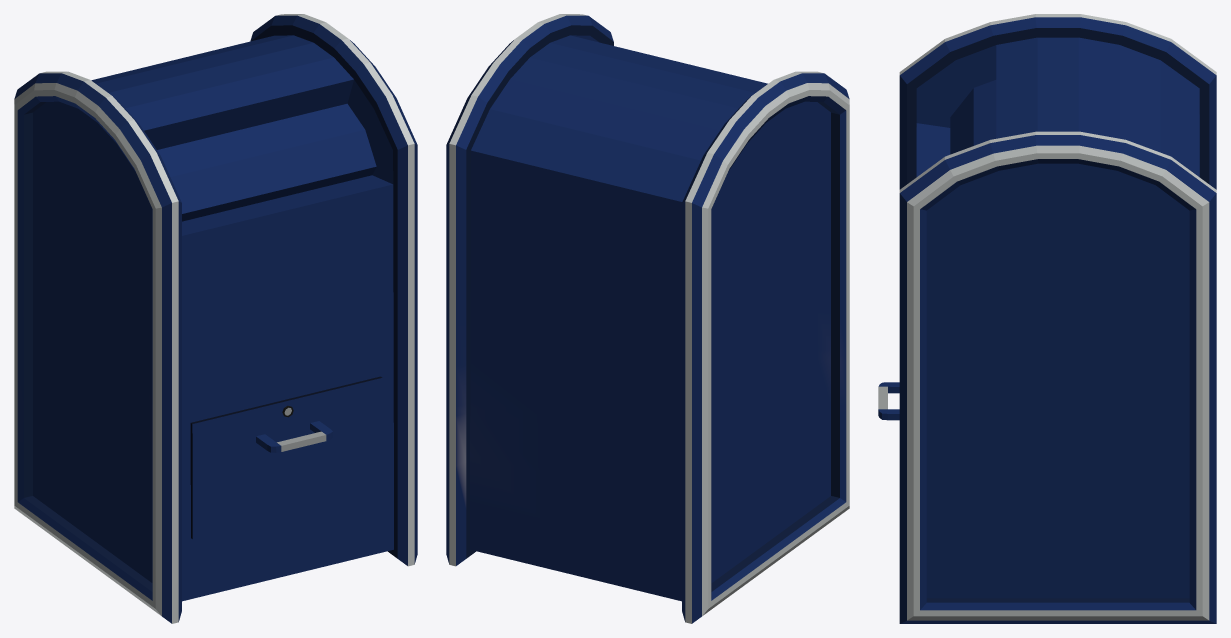
File: InvertedPostBox.fbx
The picture shows the model from 3 angles, left to right: view 1: azimuth 30°, elevation 25°; view 2: azimuth 150°, elevation 25°; view 3: azimuth 270°, elevation 25°; orthographic projection. The views are drawn at different scales.
Parts seen in each view (by area): view 1: PostBox; view 2: PostBox; view 3: PostBox.
Boxes of the visible parts, <box> form: PostBox: <box>14,14,417,623</box>; PostBox: <box>446,14,849,623</box>; PostBox: <box>878,14,1216,623</box>.
Size of the model in its own units: 56.7 by 98.9 by 62.
